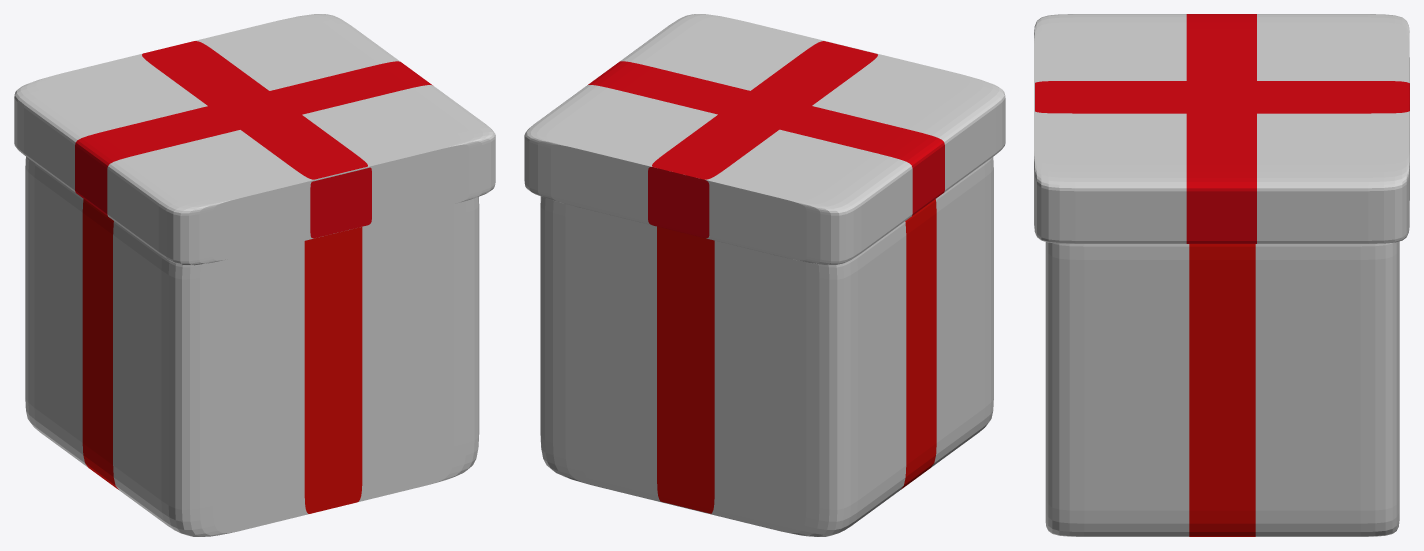
File: Present BOx (1).fbx
3 views of the same model, side by side, from view 1: azimuth 30°, elevation 25°; view 2: azimuth 150°, elevation 25°; view 3: azimuth 270°, elevation 25° (orthographic). The views are drawn at different scales.
Visible parts, largest first — view 1: Cube; view 2: Cube; view 3: Cube.
Part boxes in pixels (x1=…): Cube: x1=14, y1=14, x2=495, y2=536; Cube: x1=524, y1=14, x2=1005, y2=536; Cube: x1=1034, y1=14, x2=1409, y2=536.
Bounding box in the file's own units: 212 × 233 × 229.
